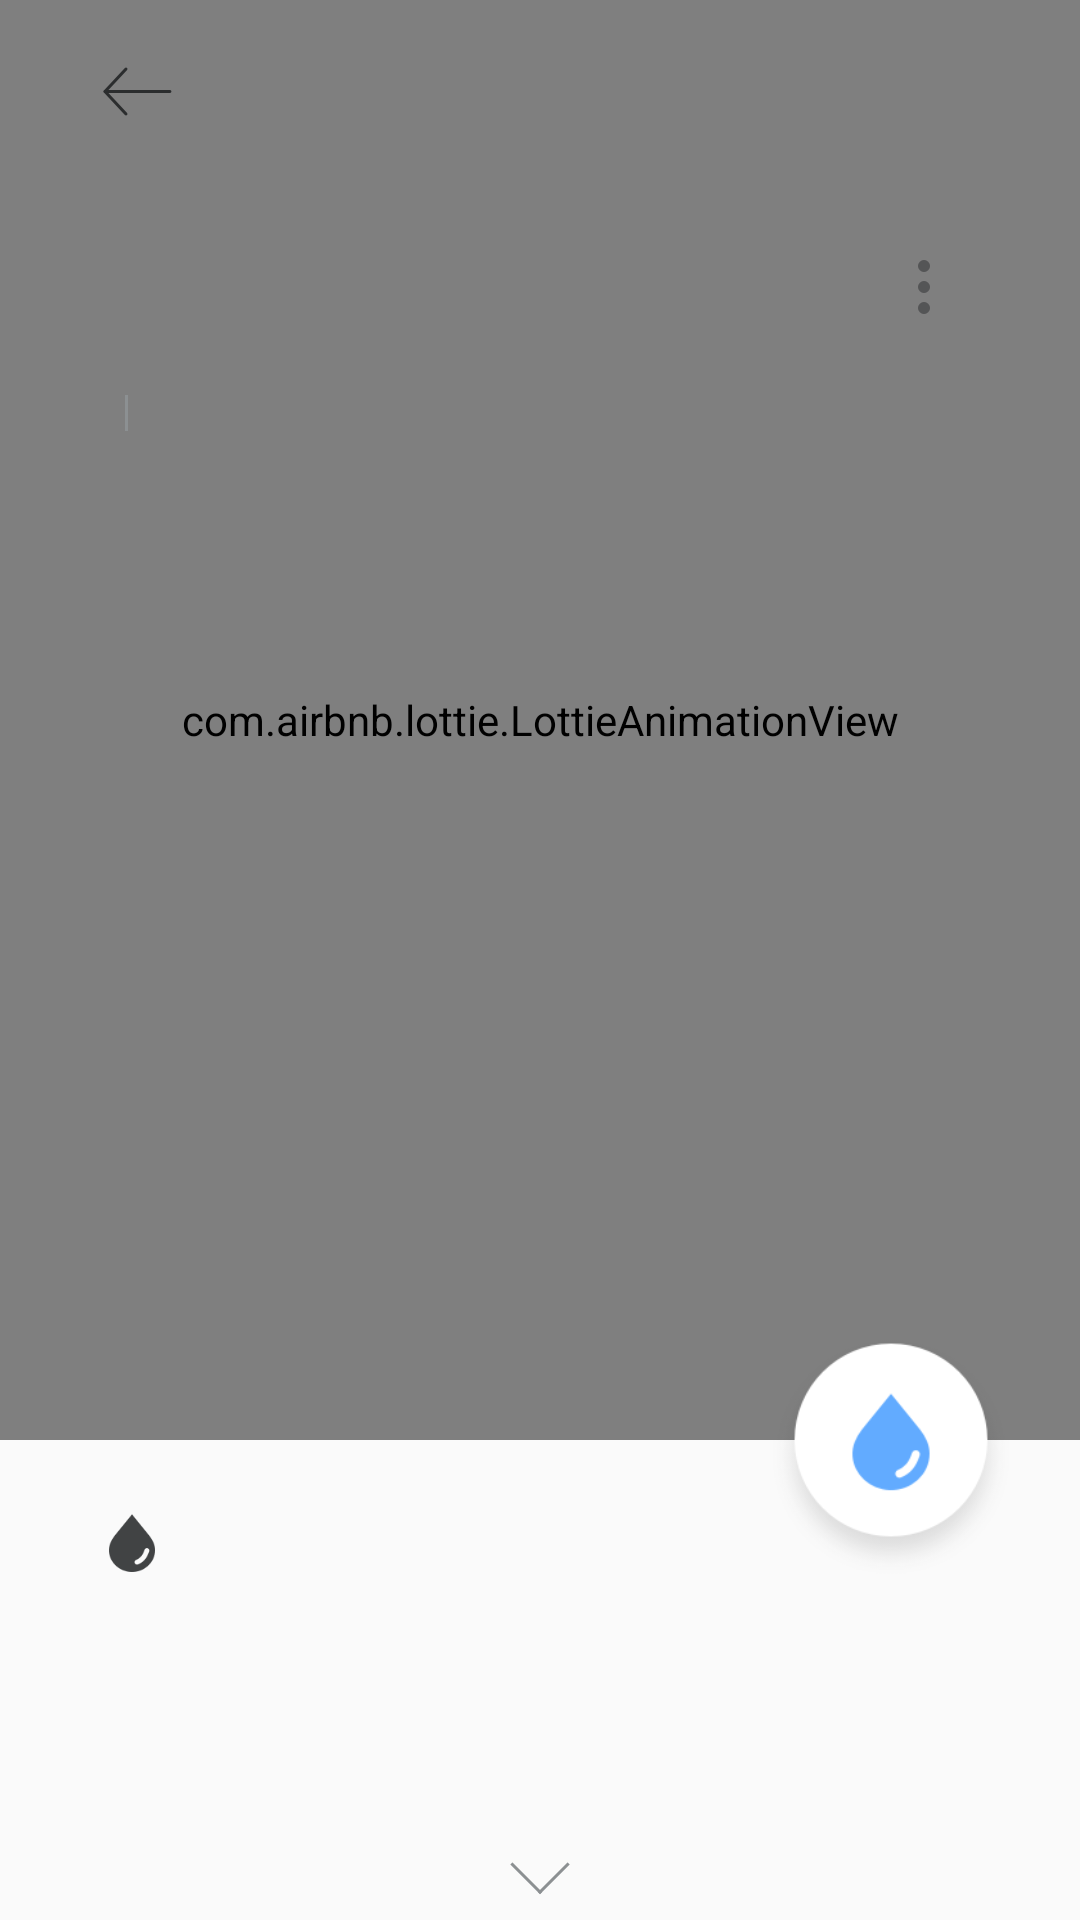

Named icons in this screenshot (1080*1920) and their centers, (x,y):
add water: (891,1440)
allow left: (137,91)
arrow bottom: (540,1878)
vertical dot: (924,287)
